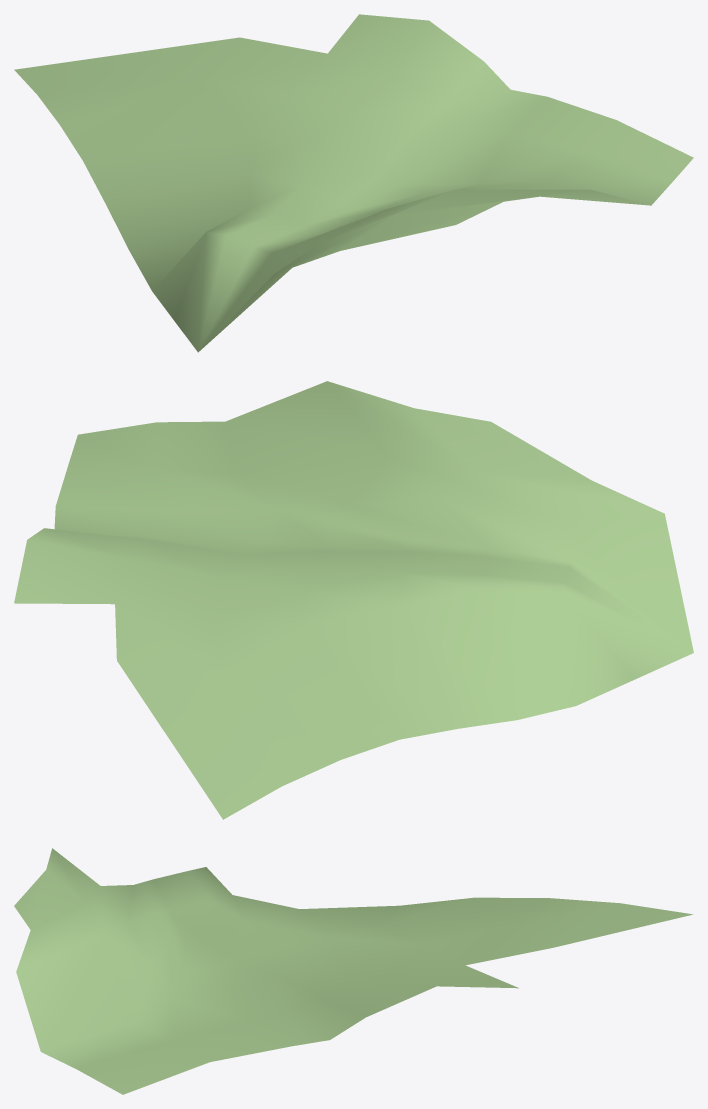
File: level_85.fbx
3 renders of one model, top to bottom at view 1: azimuth 30°, elevation 25°; view 2: azimuth 150°, elevation 25°; view 3: azimuth 270°, elevation 25°, orthographic. The views are drawn at different scales.
Parts seen in each view (by area): view 1: loc_085; view 2: loc_085; view 3: loc_085.
Boxes of the visible parts, box(x1,y1,x2,y2) form: loc_085: box(14, 14, 693, 352); loc_085: box(14, 381, 693, 819); loc_085: box(14, 848, 693, 1094).
Size of the model in its own units: 40.46 by 8.98 by 46.21.
